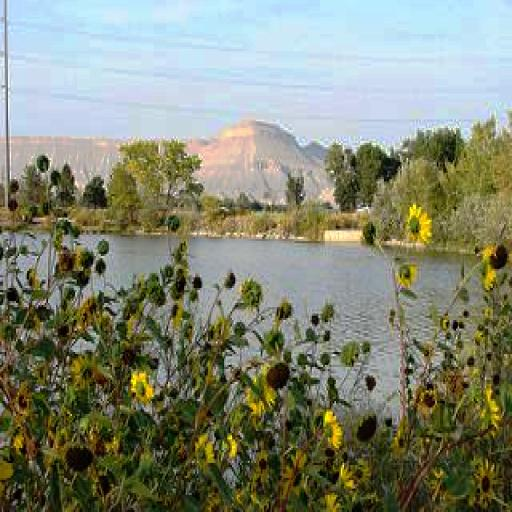sunflower: (406, 202, 432, 252), (482, 239, 507, 284), (131, 371, 154, 408), (322, 409, 344, 446), (338, 465, 360, 501), (485, 390, 501, 438), (476, 461, 494, 503), (194, 437, 214, 461), (420, 388, 438, 414), (395, 264, 418, 284)
